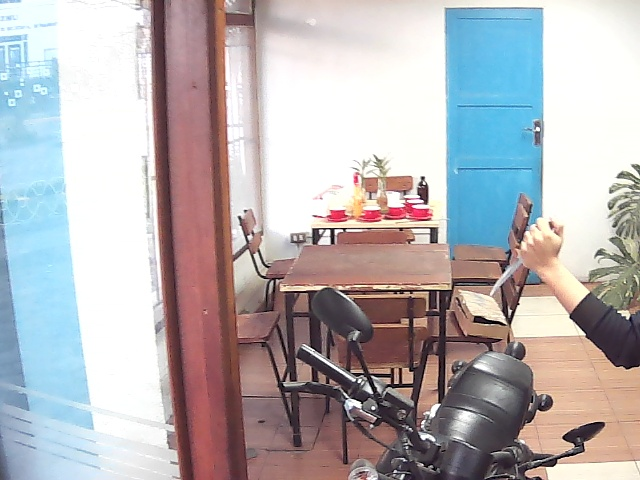cuchillo: (481, 206, 580, 306)
